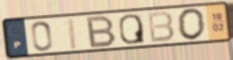0: (29, 20, 54, 53)
B: (86, 14, 118, 50), (146, 10, 176, 44)
I: (66, 16, 80, 51)
O: (176, 7, 207, 42)
Q: (117, 13, 147, 46)
